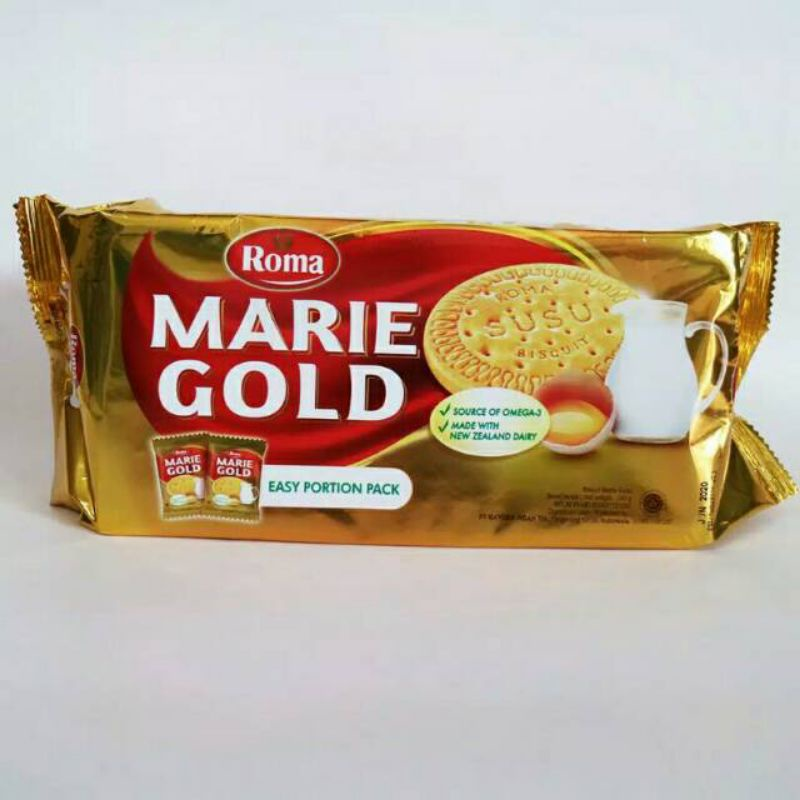Roma Marie Gold (240g): (9, 201, 785, 572)
